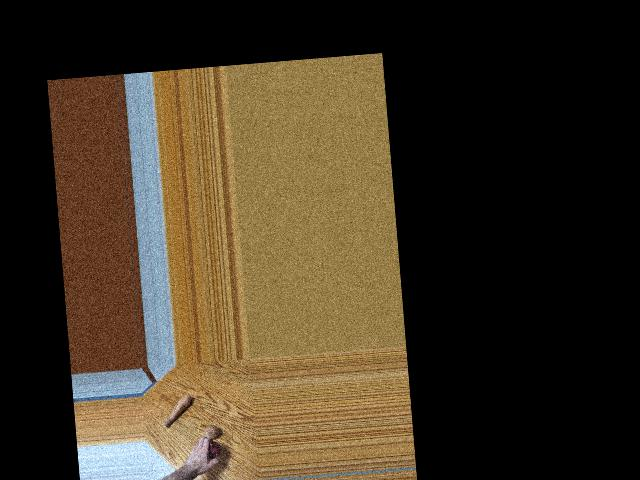onion: (204, 425, 221, 441)
